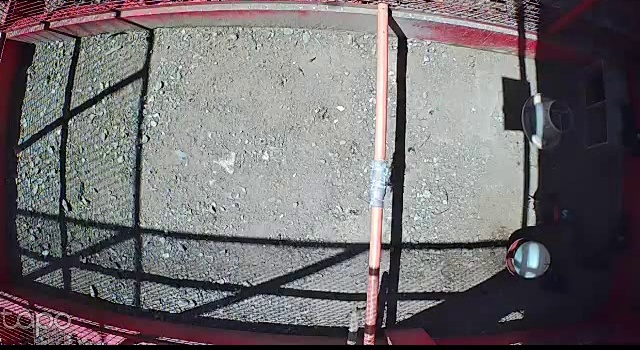Drinker: (505, 236, 552, 279)
Feeder: (520, 92, 576, 151)
